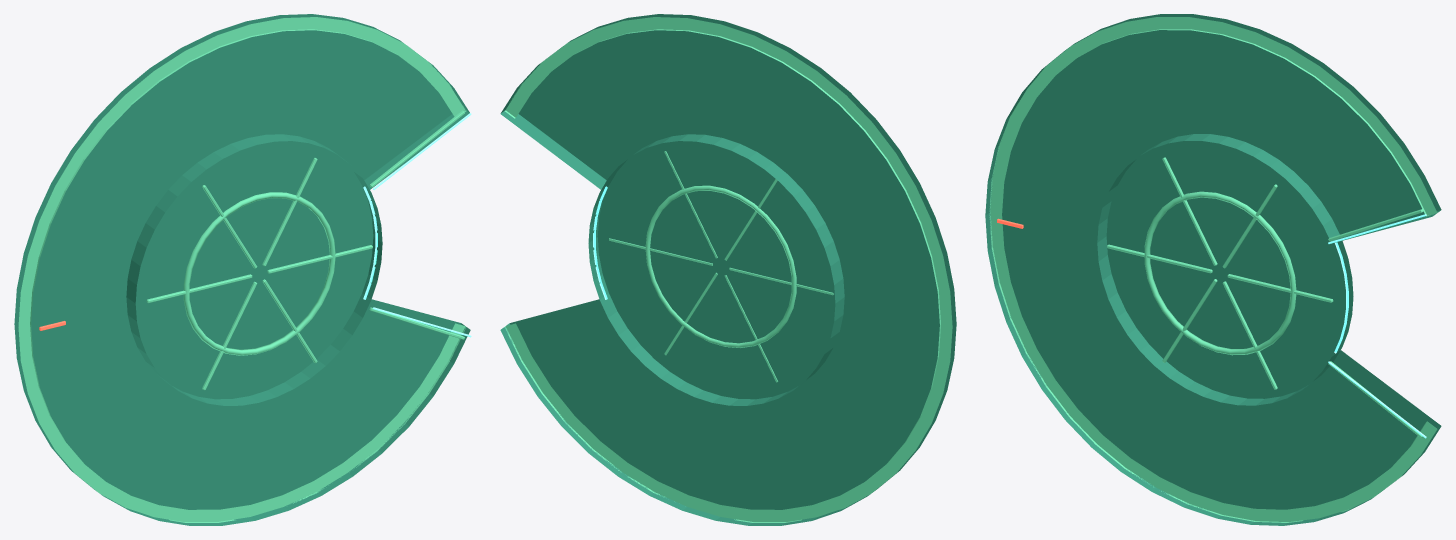
Rendered from bio-panel-fun7-medium.glb.
The picture shows the model from 3 angles, left to right: view 1: azimuth 30°, elevation 25°; view 2: azimuth 150°, elevation 25°; view 3: azimuth 330°, elevation 25°; orthographic projection.
Visible parts, largest first — view 1: RENDER_PANEL_SHELL, RENDER_PANEL_FRAME, RENDER_PANEL_SIGNAL; view 2: RENDER_PANEL_SHELL, RENDER_PANEL_FRAME; view 3: RENDER_PANEL_SHELL, RENDER_PANEL_FRAME, RENDER_PANEL_SIGNAL.
Part boxes in pixels (<box>): RENDER_PANEL_SHELL: <box>14,14,470,525</box>; RENDER_PANEL_FRAME: <box>18,17,466,522</box>; RENDER_PANEL_SIGNAL: <box>363,113,471,337</box>; RENDER_PANEL_SHELL: <box>500,14,956,525</box>; RENDER_PANEL_FRAME: <box>504,17,952,522</box>; RENDER_PANEL_SHELL: <box>985,14,1441,525</box>; RENDER_PANEL_FRAME: <box>989,17,1437,522</box>; RENDER_PANEL_SIGNAL: <box>1328,214,1426,438</box>.
Size of what is drawn, in the model's own units: 38.93 by 41 by 1.95.
